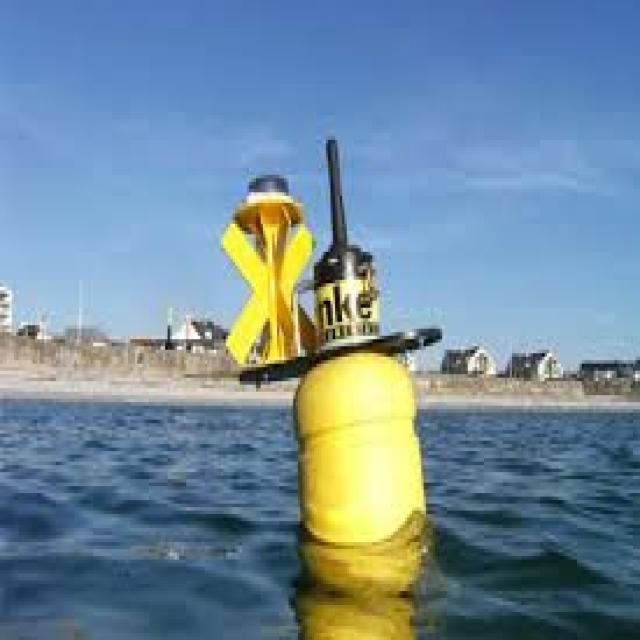2.5 sepcial mark: (221, 108, 427, 556)
